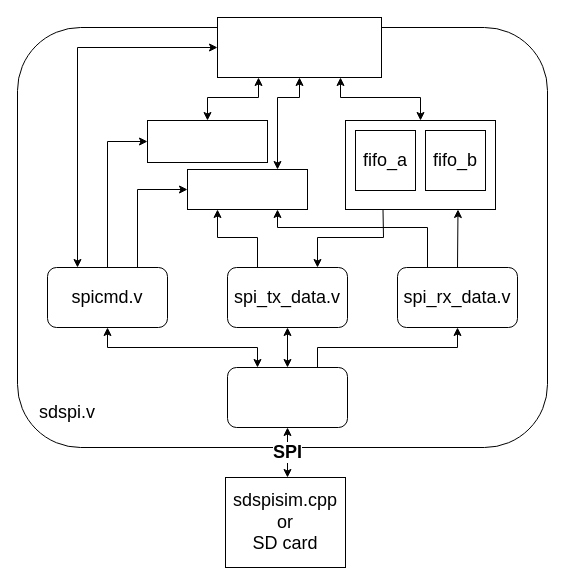
Image size: 565x585. Some labels were removed from this diagram. Each missing label, with the centre of its shape:
data_reg: the point at 247,189
R1 reg: the point at 207,141
sdspi_ll.v: the point at 287,397
Wisbone i/f: the point at 299,47
